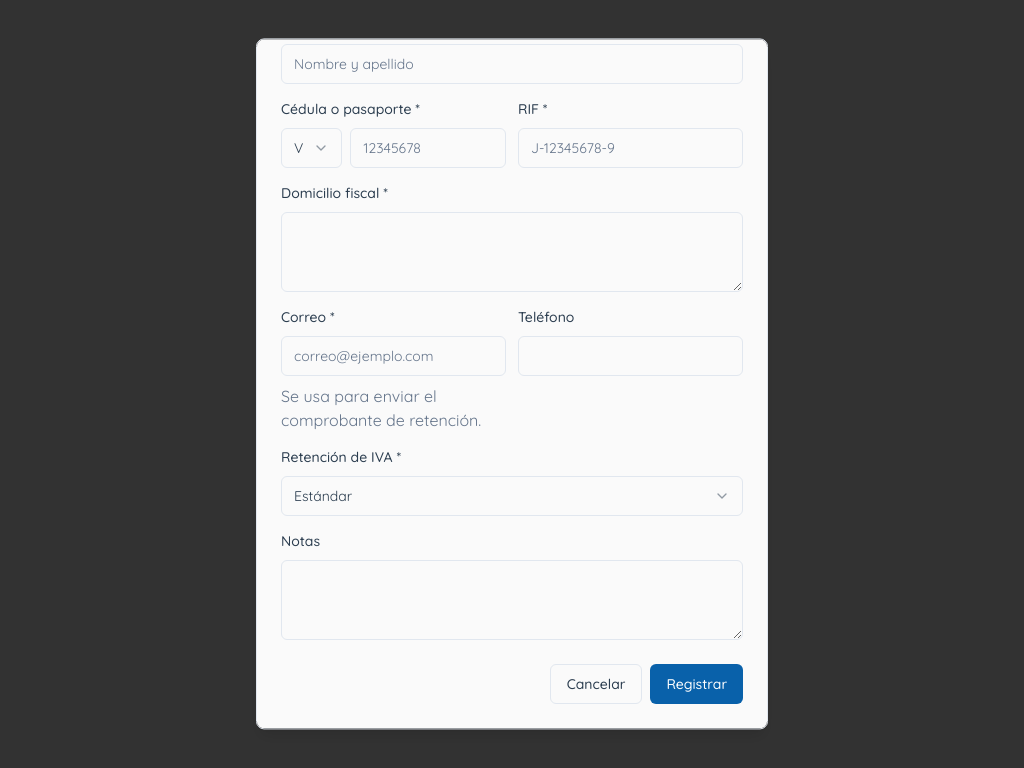
Scenario: BeneficiaryFormModal › won't save a supplier without its mandatory data
(page scrolled)
Click the button "Registrar": click(697, 684) 650,664 -> 743,704
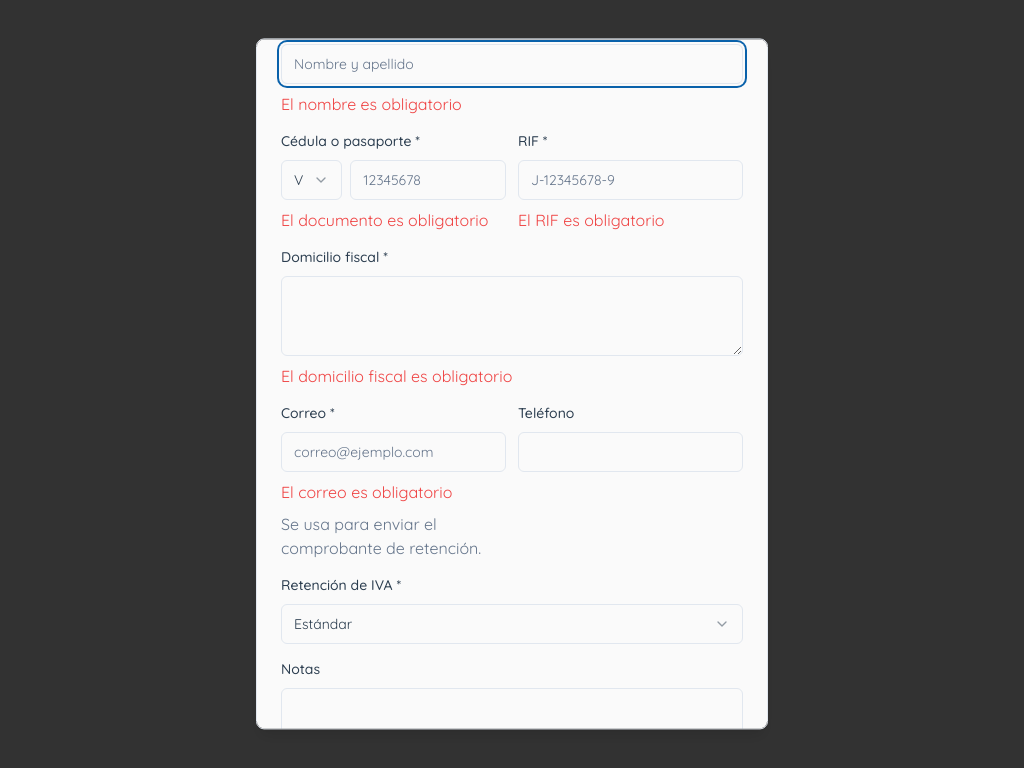
expect the text "El RIF es obligatorio" is shown: met, box 518,210 -> 664,230
expect the text "El domicilio fiscal es obligatorio" is shown: met, box 281,366 -> 512,386
expect the text "El correo es obligatorio" is shown: met, box 281,482 -> 452,502
